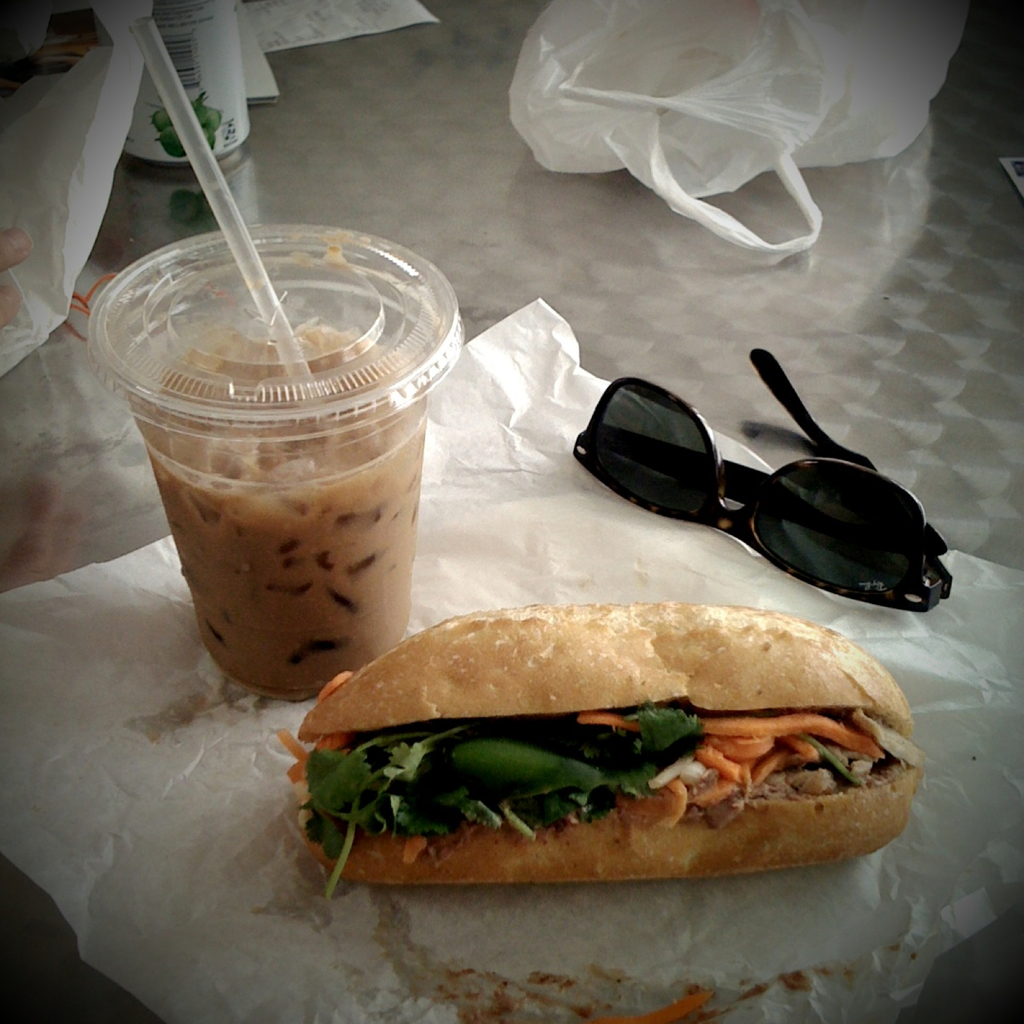Hamburger: (289, 604, 919, 906)
